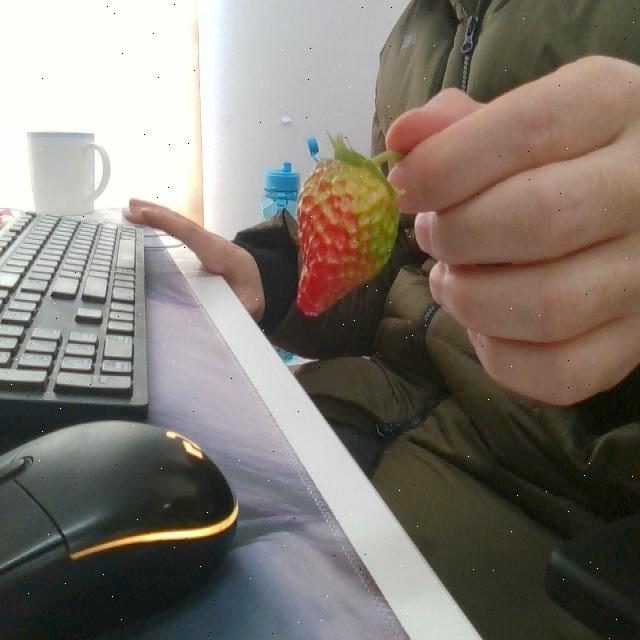strawberry: (296, 158, 400, 318)
